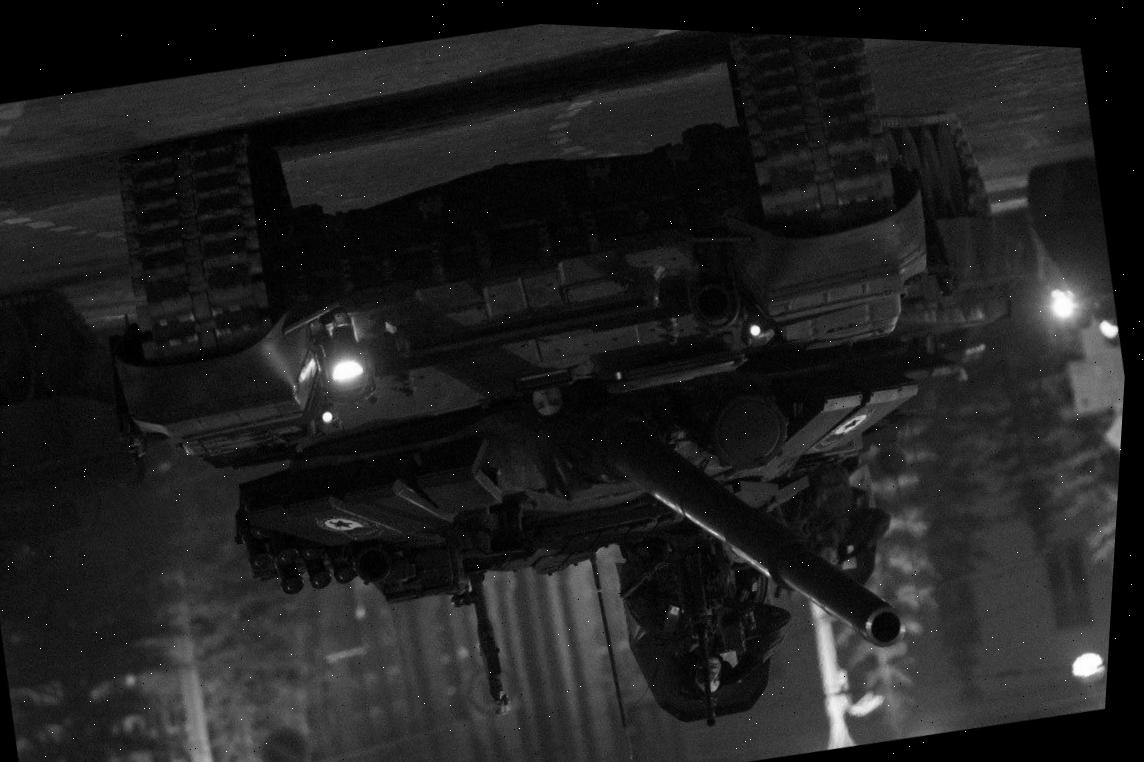tank: (56, 4, 962, 671), (836, 89, 1052, 445), (0, 266, 179, 602)
